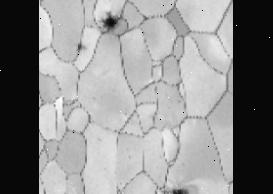good_void: (162, 177, 199, 194), (100, 10, 125, 33), (74, 41, 90, 53), (42, 189, 49, 194)
